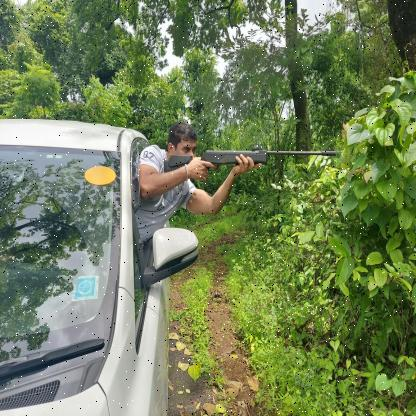rifle: (160, 146, 340, 176)
